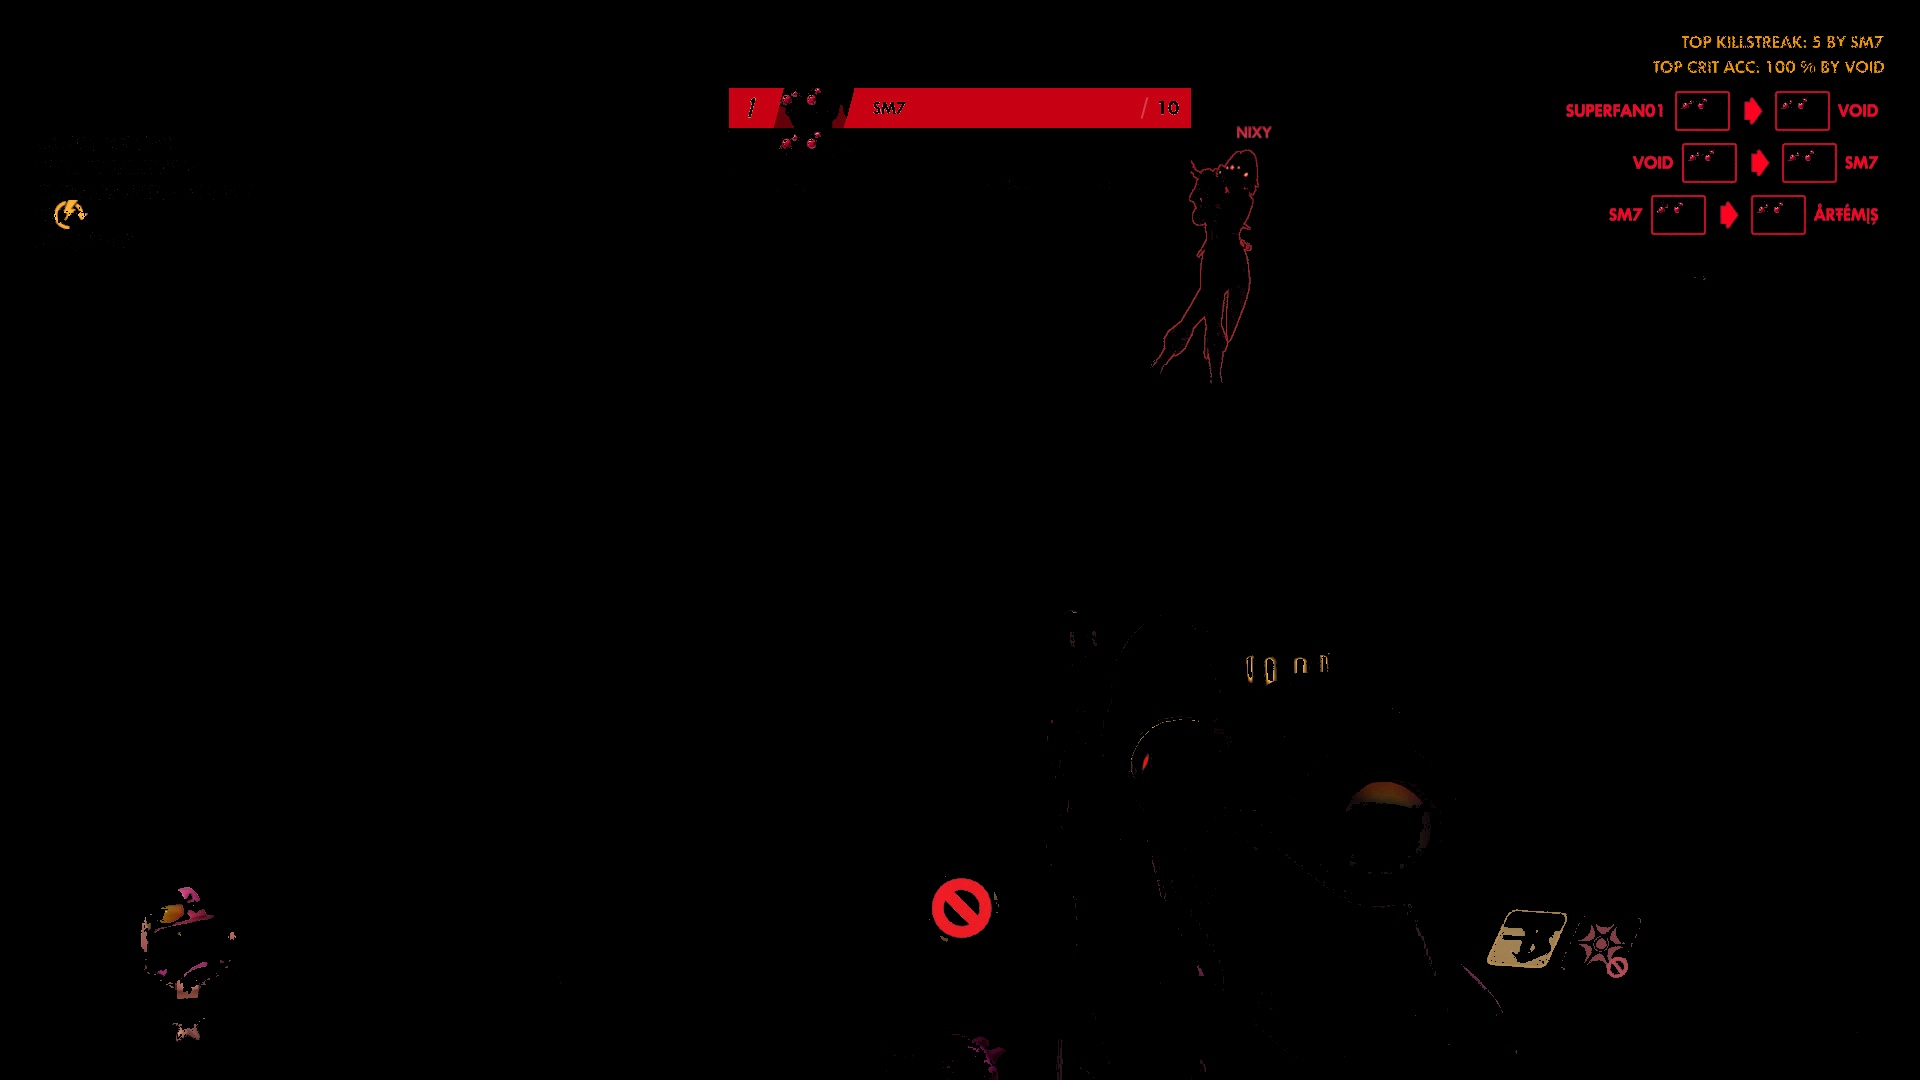widowmaker: (1131, 142, 1262, 417)
